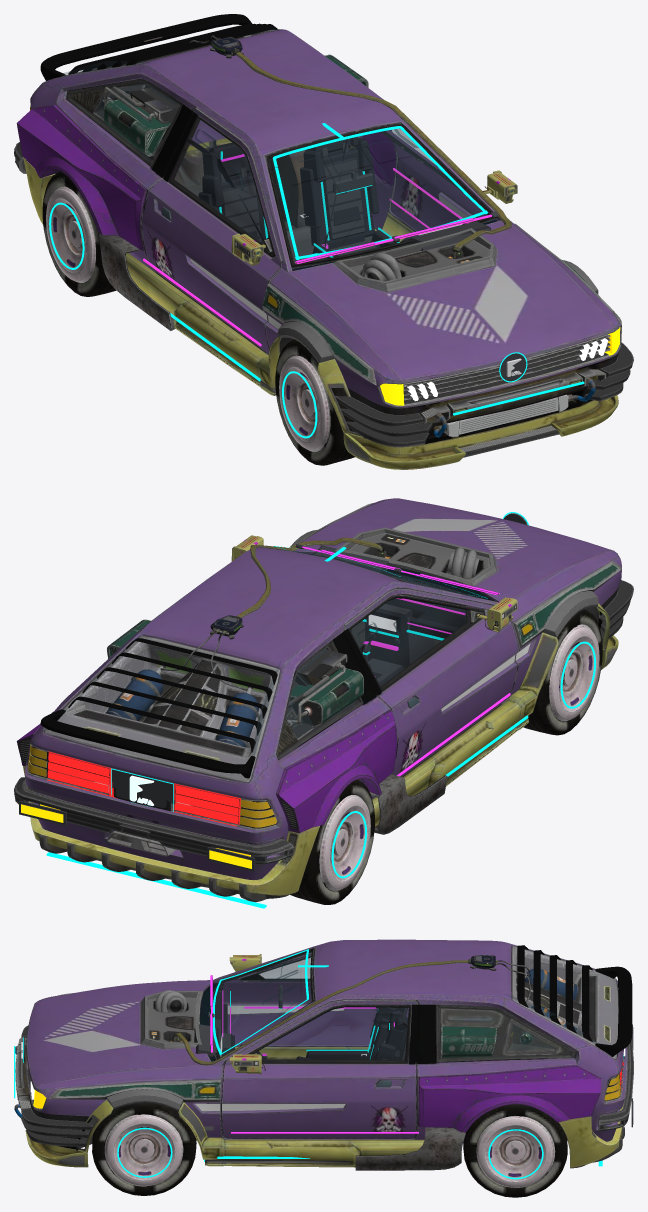
The model's file is car-cyber-low.glb.
3 views of the same model, one above another, from view 1: azimuth 30°, elevation 25°; view 2: azimuth 150°, elevation 25°; view 3: azimuth 270°, elevation 25° (orthographic). The views are drawn at different scales.
Parts seen in each view (by area): view 1: body, cockpit_static, wheel_FR, wheel_RR, neon_body, interior_extra, glass_rear; view 2: body, wheel_RR, cockpit_static, wheel_FR, neon_body, glass_rear, logo_rear_plate, signal_plate_R, signal_plate_L; view 3: body, wheel_FL, wheel_RL, cockpit_static, neon_body, glass_rear.
Part boxes in pixels (box(x1,y1,x2,y2)): body: box(14, 14, 633, 469); cockpit_static: box(198, 136, 490, 261); wheel_FR: box(275, 339, 354, 465); wheel_RR: box(42, 171, 116, 296); neon_body: box(143, 123, 584, 415); interior_extra: box(186, 138, 373, 250); glass_rear: box(47, 24, 277, 158); body: box(14, 498, 633, 902); wheel_RR: box(290, 780, 374, 904); cockpit_static: box(294, 545, 466, 749); wheel_FR: box(522, 609, 602, 735); neon_body: box(46, 546, 528, 908); glass_rear: box(66, 635, 355, 776); logo_rear_plate: box(111, 768, 174, 811); signal_plate_R: box(207, 846, 255, 871); signal_plate_L: box(19, 800, 66, 825); body: box(14, 939, 633, 1170); wheel_FL: box(92, 1103, 196, 1195); wheel_RL: box(463, 1104, 567, 1197); cockpit_static: box(194, 990, 408, 1059); neon_body: box(14, 949, 602, 1166); glass_rear: box(505, 994, 598, 1050).
Bounding box in the file's own units: 1.98 × 1.54 × 4.61.
Materials: 19 (1 with a texture image).
